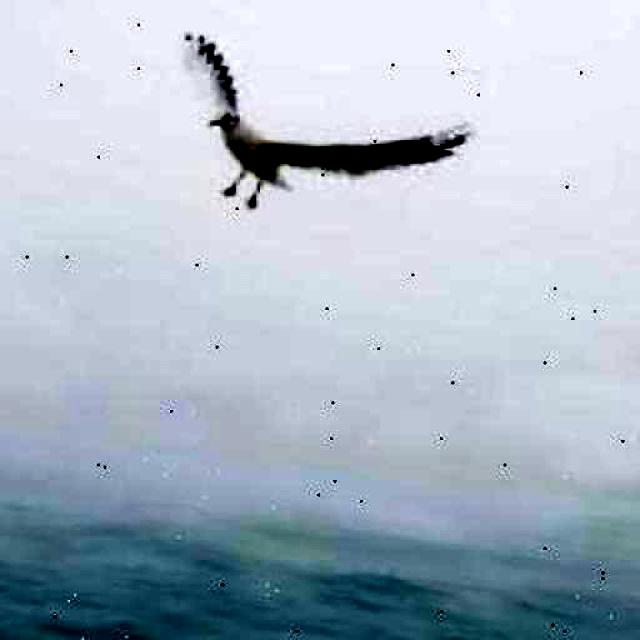airplane: (151, 31, 489, 245)
